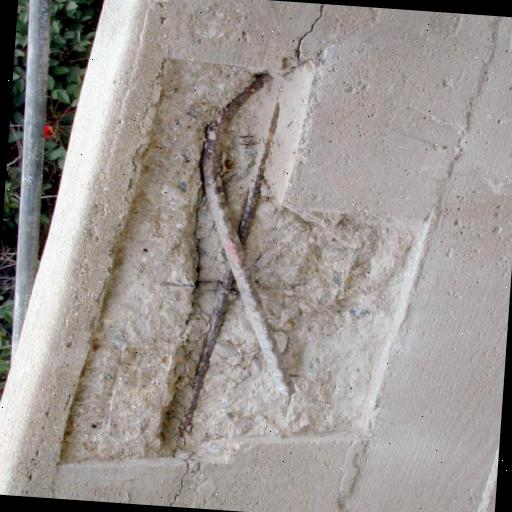spalling: (60, 61, 417, 463), (277, 3, 338, 55)
